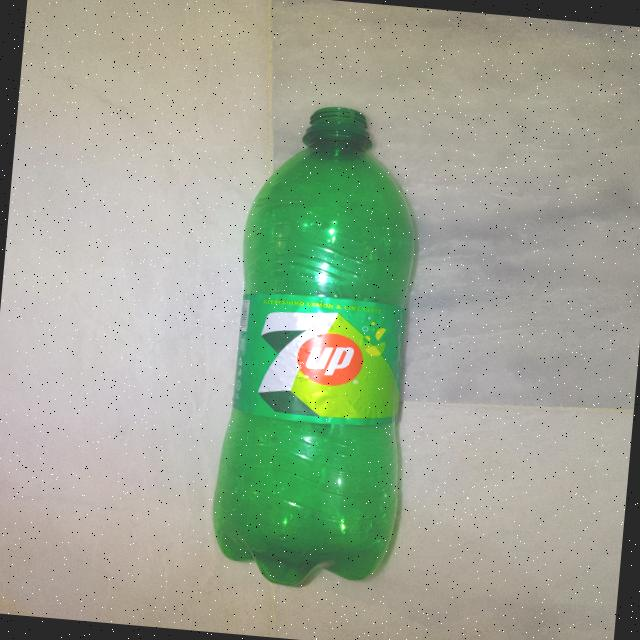bottle: (195, 81, 453, 612)
label: (227, 282, 420, 437)
